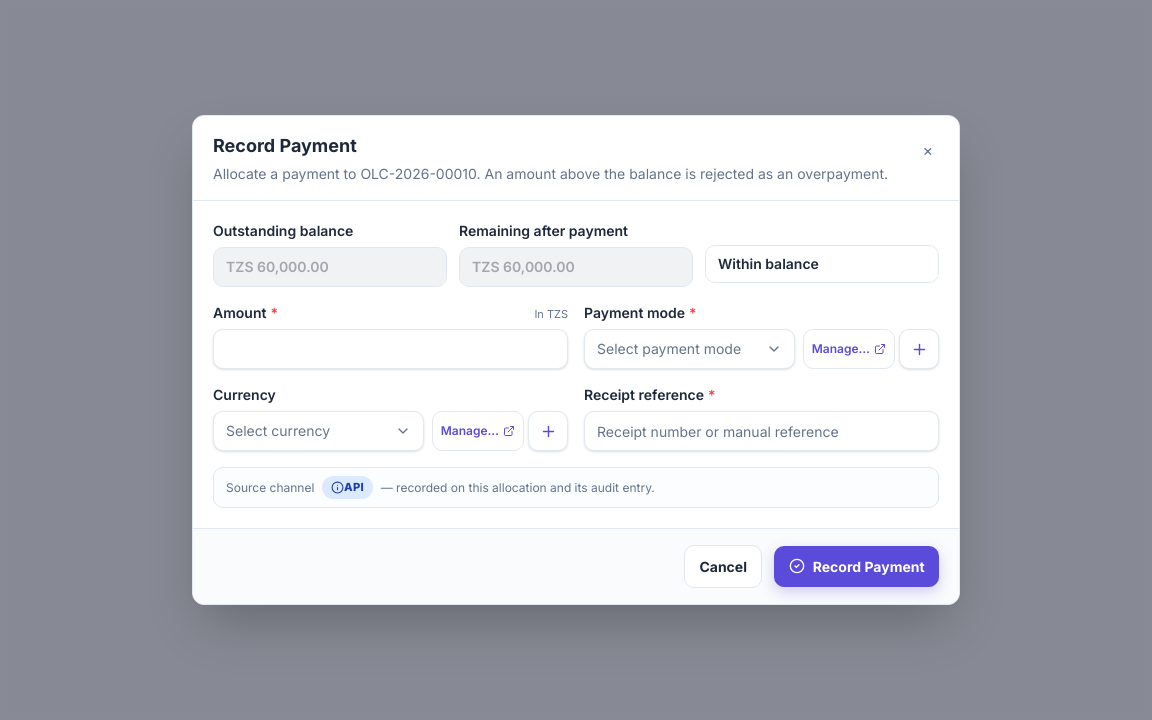
Test: RecordPaymentModal › flags an amount above the balance as exceeds-balance
Type "999999" into the number field labelled "Amount*".
click(390, 349); type("999999")  # box [213, 329, 568, 369]
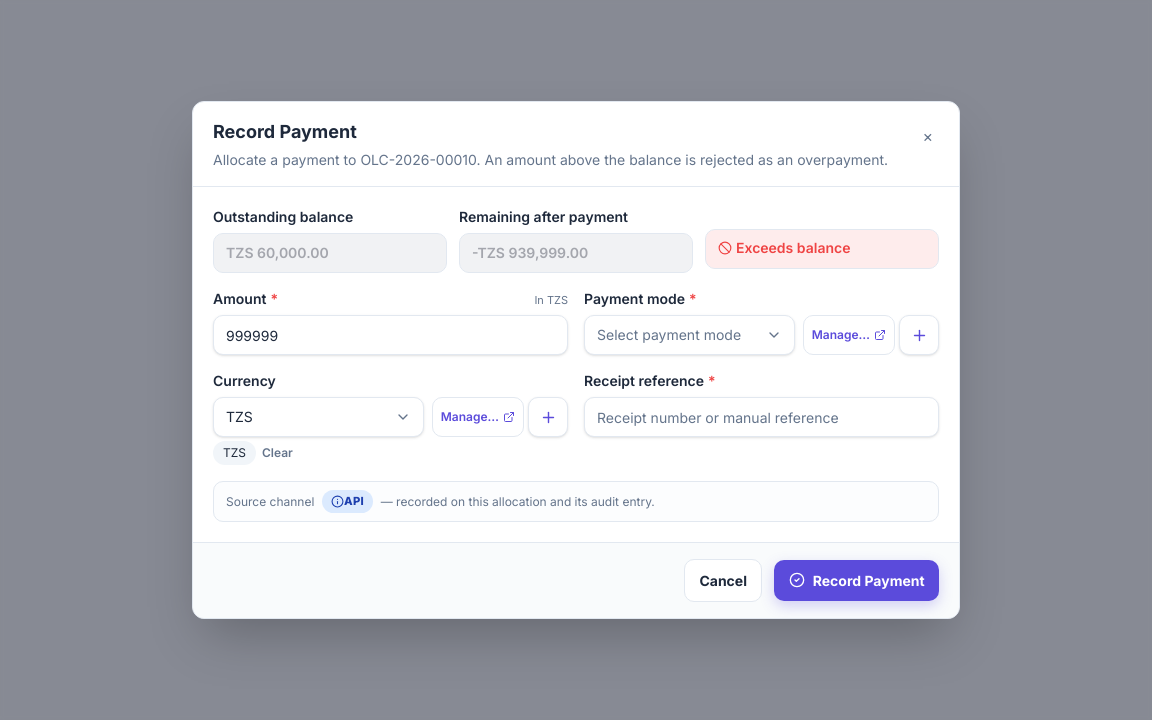
Now the element with test id "balance-preview" reads "Exceeds balance", box [736, 239, 850, 256]
Now the text "-TZS 939,999.00" is shown, box [459, 233, 693, 273]
